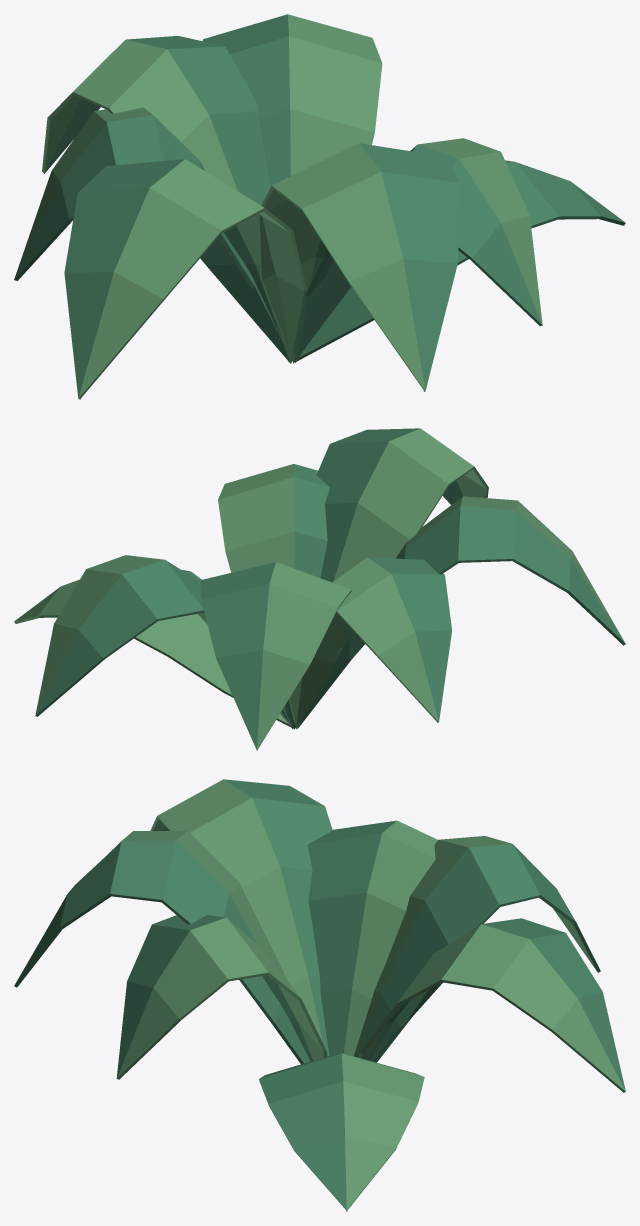
File: understory-a.glb
3 views of the same model, one above another, from view 1: azimuth 30°, elevation 25°; view 2: azimuth 150°, elevation 25°; view 3: azimuth 270°, elevation 25° (orthographic). The views are drawn at different scales.
Parts seen in each view (by area): view 1: understory-a curled leaves; view 2: understory-a curled leaves; view 3: understory-a curled leaves.
Boxes of the visible parts, x1,y1,x2,y2 form: understory-a curled leaves: (14, 14, 625, 399); understory-a curled leaves: (14, 428, 625, 750); understory-a curled leaves: (14, 779, 625, 1211).
Bounding box in the file's own units: 1.16 × 0.5009 × 1.07.
